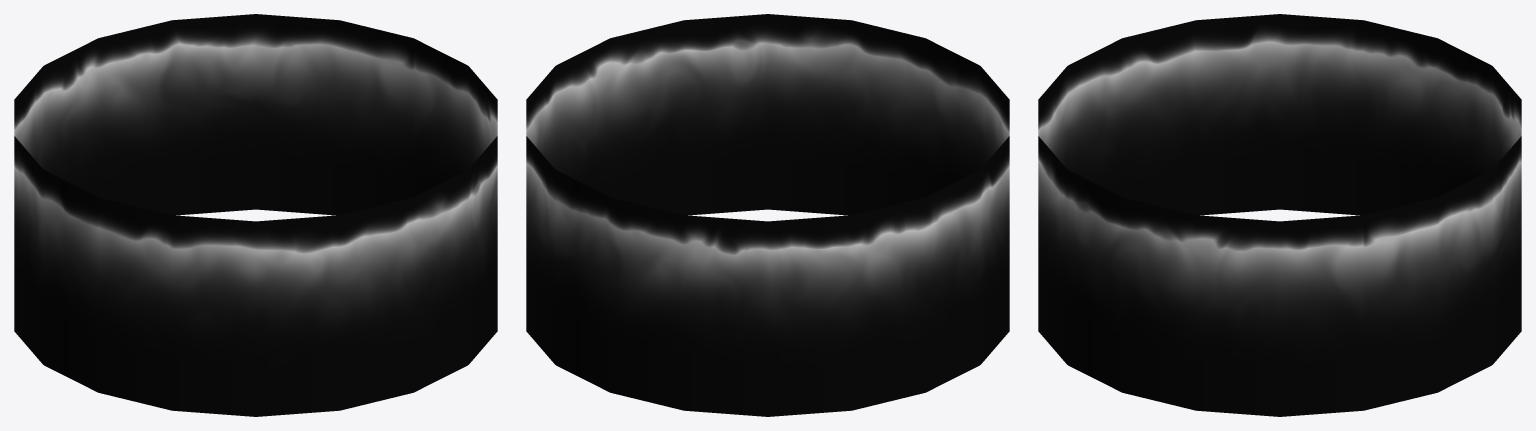
The model's file is Effect_Mesh_Cylinder3_20251110.fbx.
The picture shows the model from 3 angles, left to right: view 1: azimuth 30°, elevation 25°; view 2: azimuth 150°, elevation 25°; view 3: azimuth 270°, elevation 25°; orthographic projection.
Parts seen in each view (by area): view 1: Mesh_Cylinder3; view 2: Mesh_Cylinder3; view 3: Mesh_Cylinder3.
Boxes of the visible parts, <box> form: Mesh_Cylinder3: <box>14,14,497,416</box>; Mesh_Cylinder3: <box>526,14,1009,416</box>; Mesh_Cylinder3: <box>1038,14,1521,416</box>.
Size of the model in its own units: 1283 by 564 by 1264.
